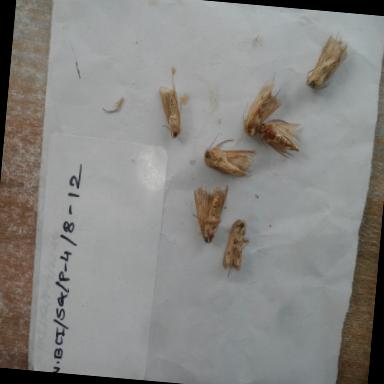abw: (302, 24, 354, 98), (238, 72, 286, 142), (199, 130, 260, 183), (186, 179, 232, 249), (255, 114, 310, 167), (216, 215, 256, 285), (152, 85, 190, 142)
